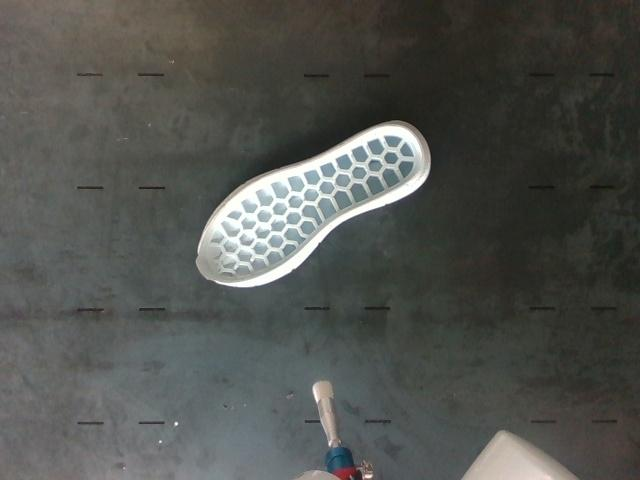shoes: (195, 124, 423, 284)
